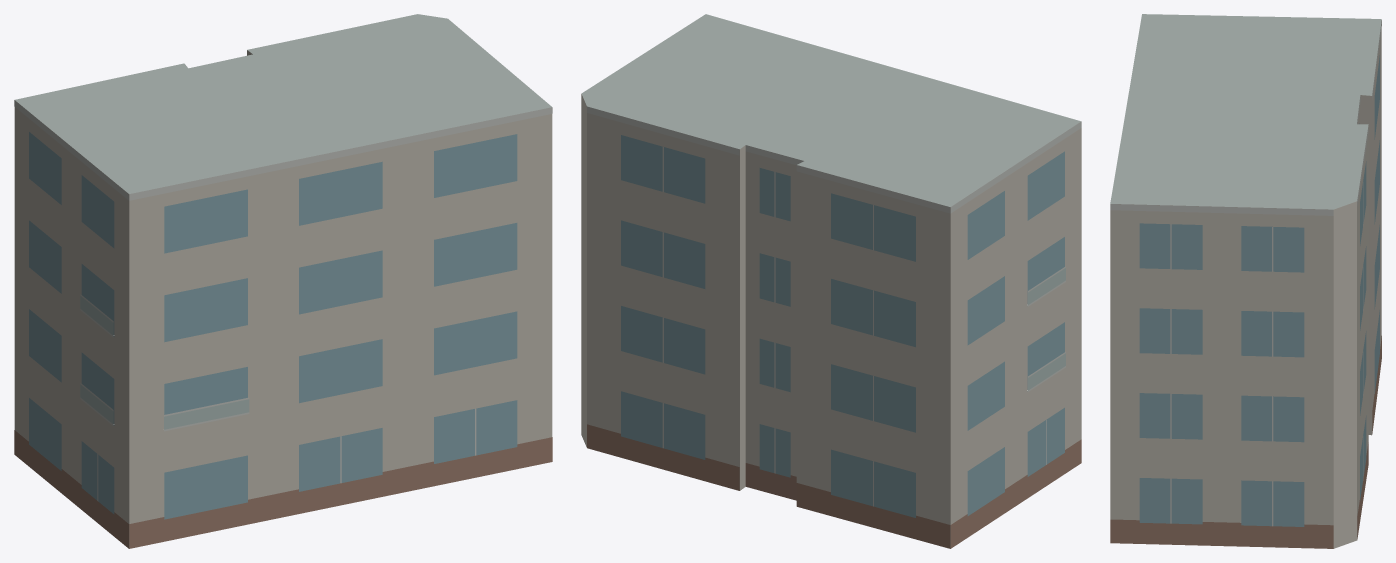
The model's file is survey-upis-32726741.glb.
3 views of the same model, side by side, from view 1: azimuth 30°, elevation 25°; view 2: azimuth 150°, elevation 25°; view 3: azimuth 270°, elevation 25° (orthographic). The views are drawn at different scales.
Visible parts, largest first — view 1: survey-upis-32726741.tmp; view 2: survey-upis-32726741.tmp; view 3: survey-upis-32726741.tmp.
Boxes of the visible parts, x1=… form: survey-upis-32726741.tmp: x1=14, y1=14, x2=552, y2=548; survey-upis-32726741.tmp: x1=581, y1=14, x2=1081, y2=548; survey-upis-32726741.tmp: x1=1110, y1=14, x2=1381, y2=548.
Size of the model in its own units: 16.04 by 12.97 by 9.42.
